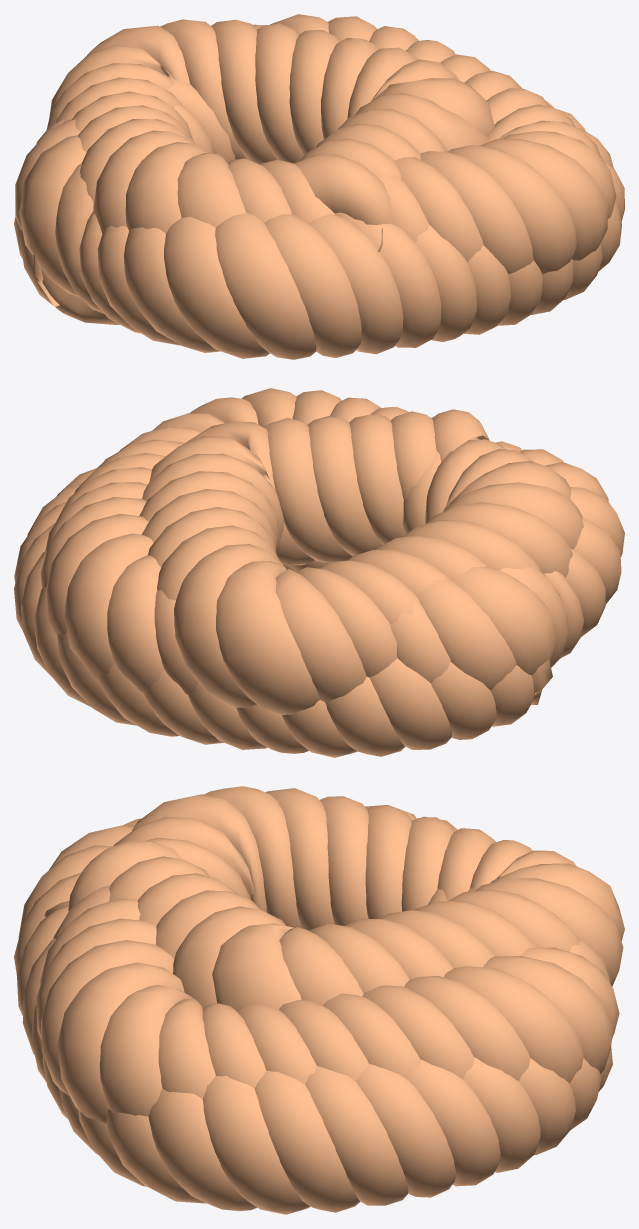
Rendered from rope.fbx.
3 renders of one model, top to bottom at view 1: azimuth 30°, elevation 25°; view 2: azimuth 150°, elevation 25°; view 3: azimuth 270°, elevation 25°, orthographic. The views are drawn at different scales.
Parts seen in each view (by area): view 1: Circle; view 2: Circle; view 3: Circle.
Part boxes in pixels (x1,y1,x2,y2): Circle: (14, 14, 624, 359); Circle: (14, 388, 624, 757); Circle: (14, 786, 624, 1214).
Size of the model in its own units: 5550 by 2059 by 5124.
